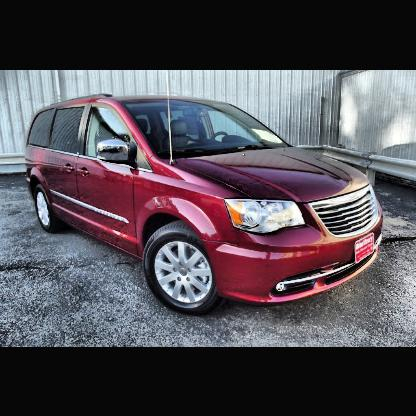Chrysler Town and Country Minivan 2012: (27, 94, 384, 315)
